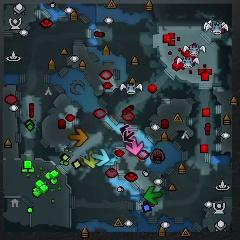x1: (126, 138, 144, 155)
x1Clone: (122, 130, 136, 143), (120, 123, 130, 134)
x2: (83, 150, 98, 168)
x3: (93, 149, 110, 167)
x4: (144, 186, 162, 204)
x5: (69, 129, 88, 147)
